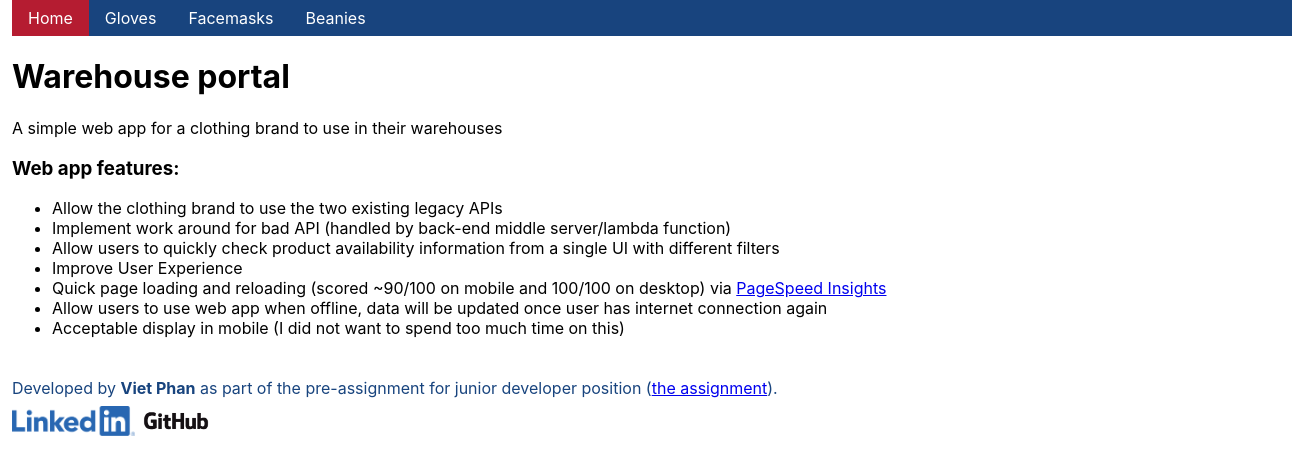
Test case: navigating to category page › render loading indicator
This screenshot has width=1292, height=455.
Click the link "Beanies" at (336, 18), box [306,8,366,28]
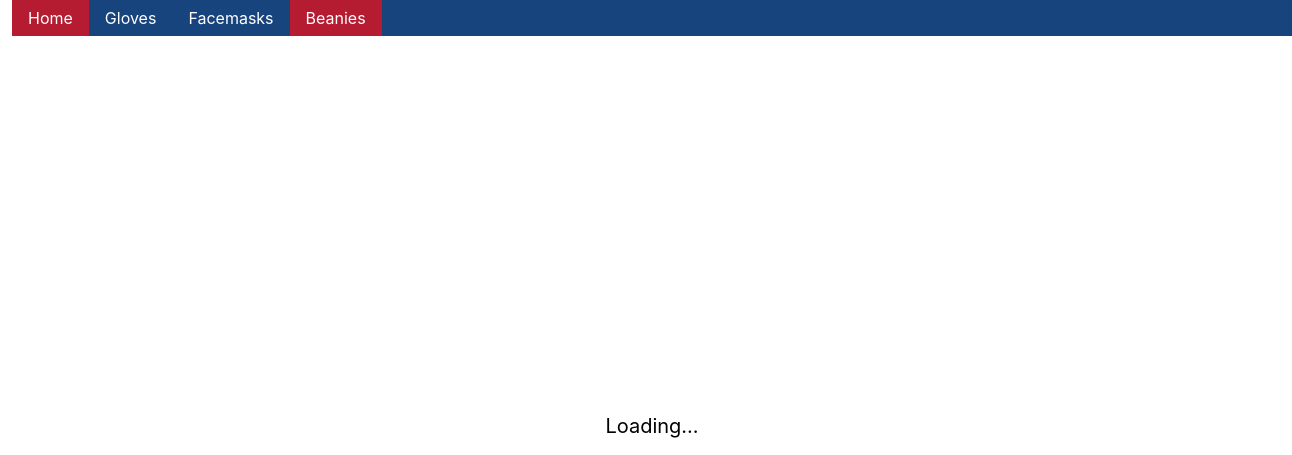
Now the text "Loading..." is shown, box [605,414,699,438]
